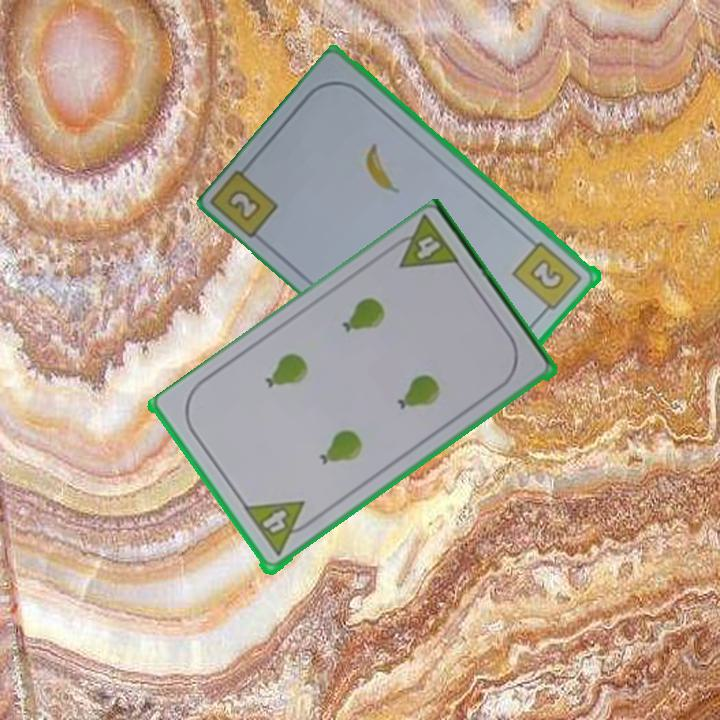2b: (509, 238, 586, 318), (224, 185, 265, 225)
4p: (244, 497, 304, 541), (412, 233, 444, 264)
